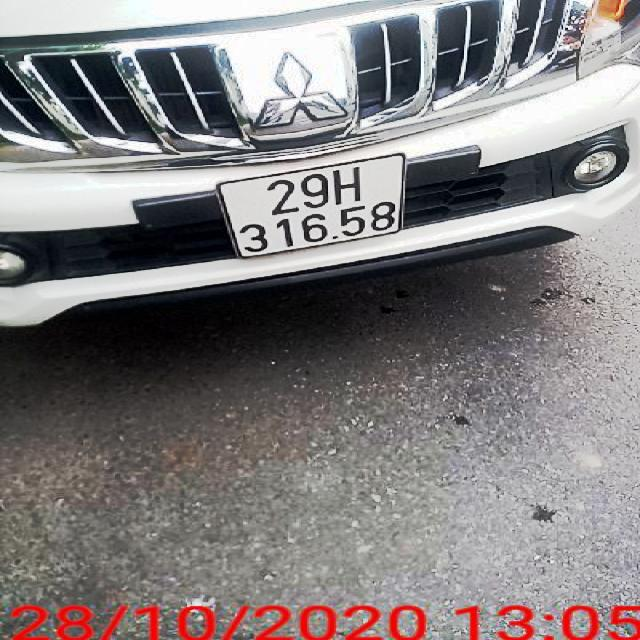license_plate: (216, 154, 406, 259)
